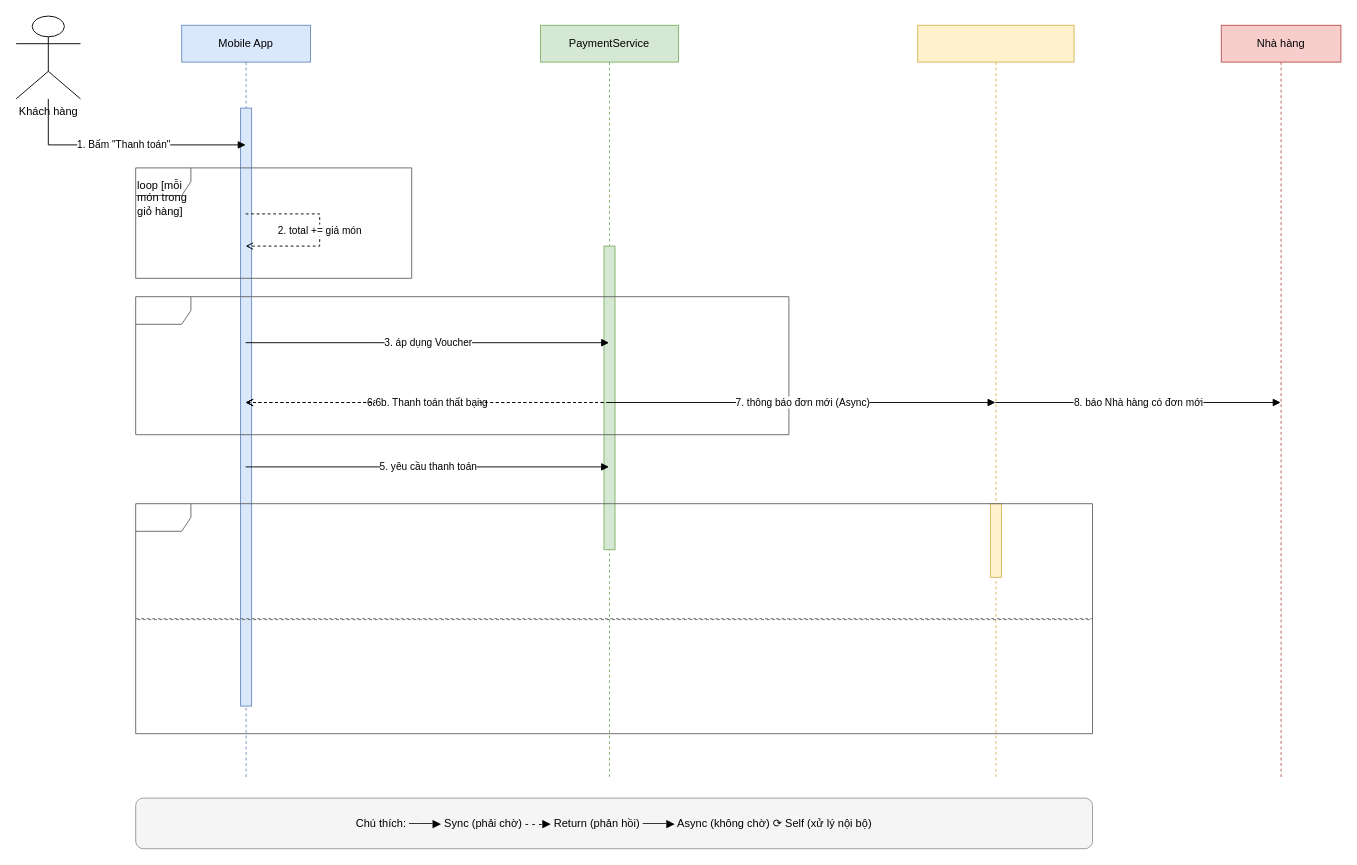
The diagram is 1357 pixels wide and 865 high, and some of its shapes have lost their labels. Each missing label, with the box of its shape:
alt [đủ tiền] / else [không đủ tiền]: (135, 503, 1092, 734)
NotificationService: (917, 24, 1074, 780)
opt [có nhập Voucher]: (135, 296, 789, 435)
